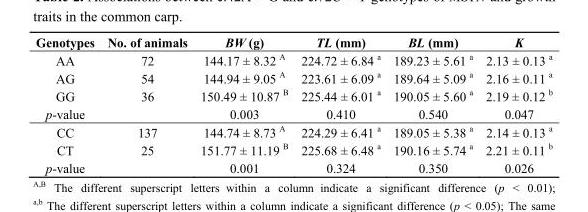table: (35, 34, 551, 174)
table column: (193, 34, 294, 174), (100, 34, 193, 174), (294, 34, 386, 174), (386, 34, 478, 174), (478, 34, 551, 174), (35, 34, 100, 174)
table column header: (35, 34, 551, 50)
table row: (35, 121, 551, 140), (35, 50, 551, 68), (35, 68, 551, 86), (35, 86, 551, 104), (35, 140, 551, 158), (35, 104, 551, 121), (35, 34, 551, 50), (35, 158, 551, 174)
